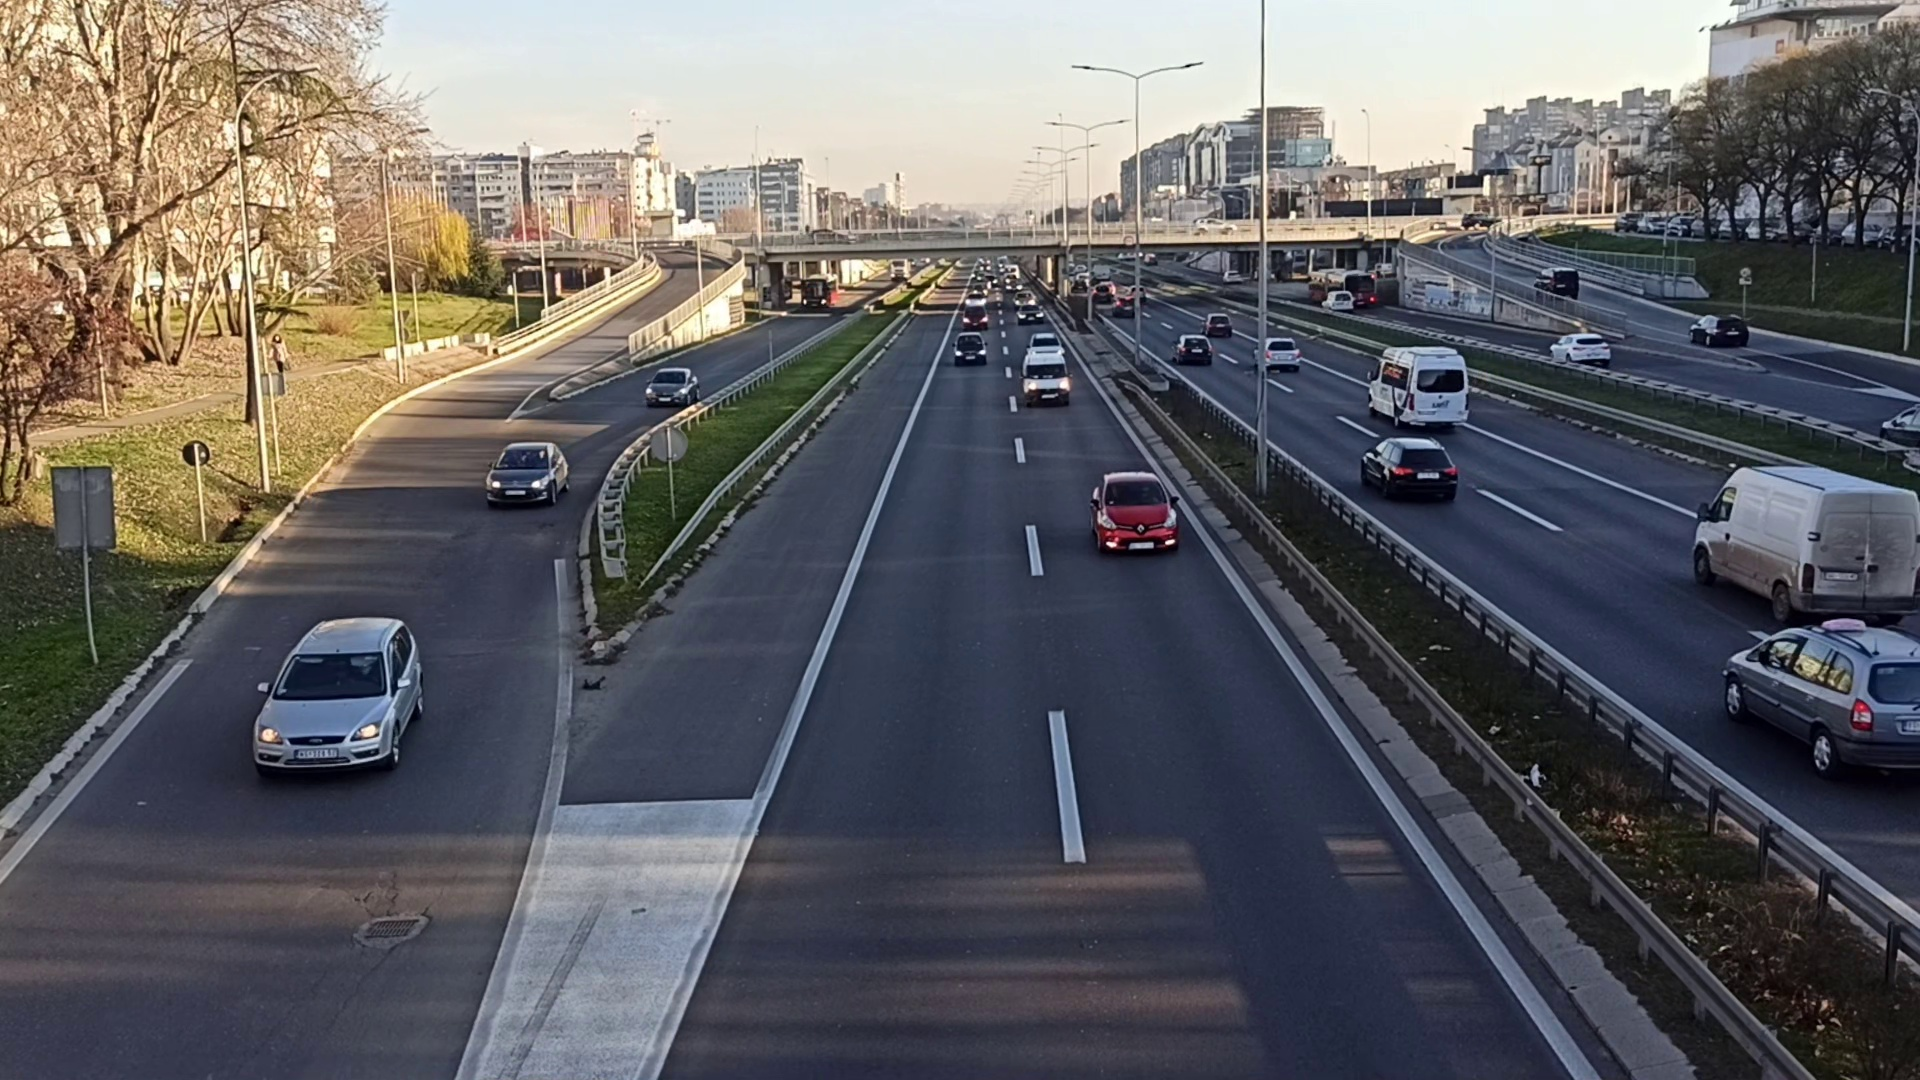car: (1700, 604, 1920, 777), (240, 611, 433, 785), (1085, 468, 1187, 564), (1357, 436, 1457, 502), (483, 439, 572, 512), (1018, 353, 1069, 409), (645, 364, 699, 409), (1170, 332, 1213, 367), (951, 332, 990, 367), (1201, 313, 1229, 335)
van: (1689, 462, 1920, 628), (1365, 342, 1473, 433)
